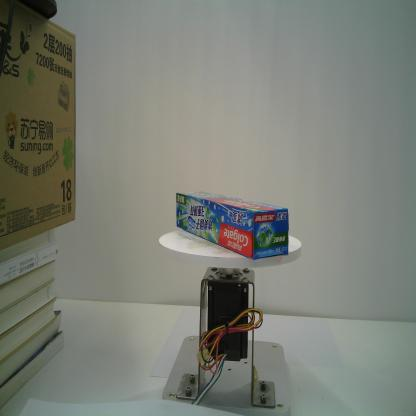Personal Hygiene: (175, 190, 289, 262)
